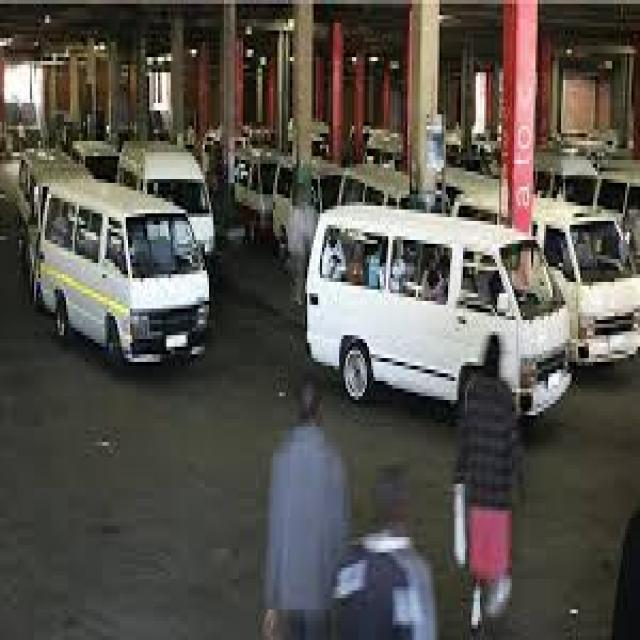MiniBus taxi: (301, 190, 576, 450), (34, 168, 222, 384), (565, 210, 640, 388)
Pedestrians: (252, 358, 356, 629), (454, 332, 527, 628)
